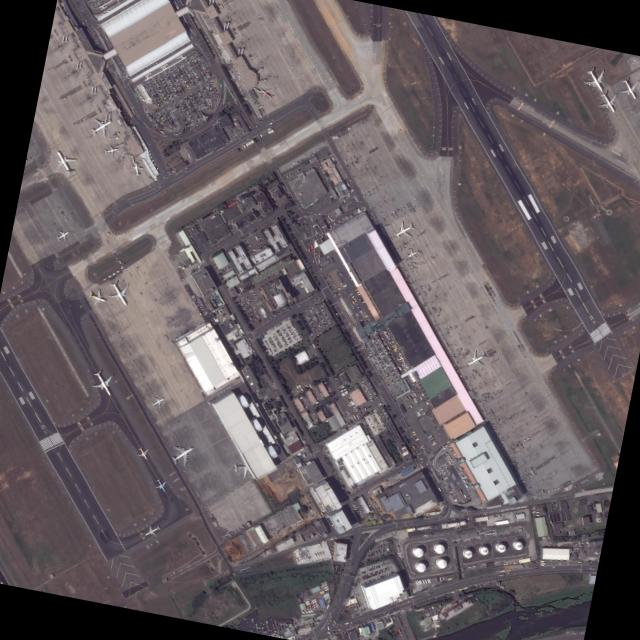large-vehicle: (326, 631, 330, 635), (352, 415, 356, 419), (326, 626, 329, 631), (457, 588, 462, 591), (343, 622, 348, 625), (332, 620, 335, 625), (159, 131, 163, 134), (254, 236, 257, 240), (238, 287, 241, 291), (217, 310, 220, 314), (222, 317, 225, 321), (364, 315, 368, 318), (115, 270, 119, 273), (397, 629, 400, 633), (107, 275, 111, 278), (337, 628, 341, 631), (102, 278, 106, 281), (331, 632, 336, 634), (462, 587, 467, 589), (527, 567, 532, 569), (520, 565, 523, 568), (219, 84, 221, 88), (342, 285, 346, 287), (118, 260, 120, 264), (111, 273, 115, 275), (499, 574, 503, 576), (500, 570, 504, 572), (540, 563, 544, 565), (534, 568, 538, 570), (120, 266, 122, 269), (505, 570, 510, 571), (590, 568, 595, 569), (173, 134, 177, 135), (539, 565, 543, 566), (539, 561, 543, 562), (540, 562, 542, 563)
plane: (578, 62, 617, 98), (84, 365, 121, 401), (47, 143, 82, 180), (101, 277, 136, 312), (165, 439, 200, 471), (85, 112, 117, 142), (592, 88, 624, 117), (389, 216, 419, 244), (613, 74, 640, 104), (462, 347, 490, 373), (230, 460, 254, 481), (86, 286, 107, 309), (150, 475, 171, 496), (141, 521, 163, 540), (256, 84, 276, 104), (148, 394, 167, 411), (52, 227, 71, 244), (133, 445, 151, 462), (128, 161, 145, 177), (101, 143, 117, 158), (404, 247, 421, 261), (632, 64, 640, 80)
storage-tank: (412, 547, 423, 559), (436, 559, 447, 570), (415, 563, 426, 573), (513, 541, 523, 551), (434, 544, 444, 554), (496, 544, 506, 553), (479, 547, 488, 556), (463, 550, 472, 559)
